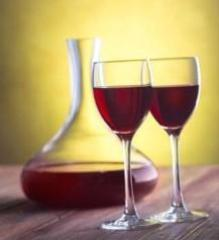glass: (18, 40, 162, 211), (88, 55, 214, 233)
